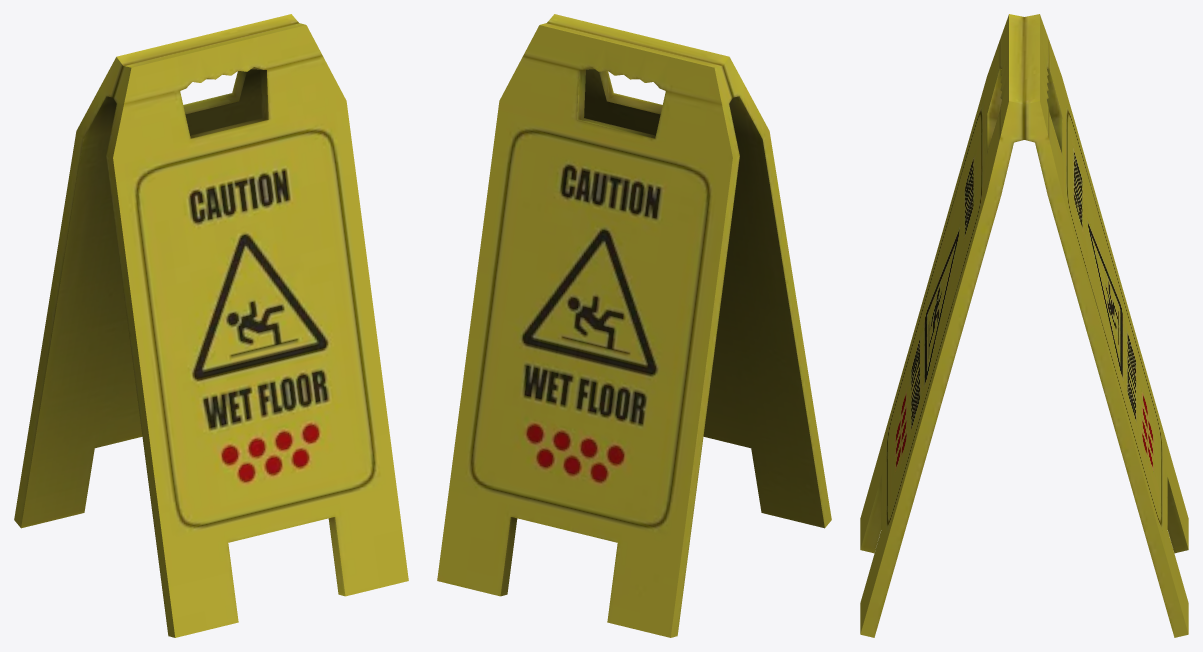
Rendered from WetFloorSign_01.glb.
3 renders of one model, left to right at view 1: azimuth 30°, elevation 25°; view 2: azimuth 150°, elevation 25°; view 3: azimuth 270°, elevation 25°, orthographic.
Parts seen in each view (by area): view 1: WetFloorSign_01; view 2: WetFloorSign_01; view 3: WetFloorSign_01.
Part boxes in pixels (x1=…): WetFloorSign_01: x1=14, y1=14, x2=408, y2=637; WetFloorSign_01: x1=437, y1=14, x2=831, y2=637; WetFloorSign_01: x1=860, y1=14, x2=1188, y2=637.
Size of the model in its own units: 0.3 by 0.6295 by 0.3585.
1 material, 1 textured.
